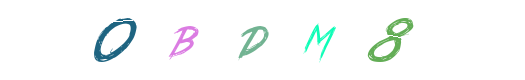0: (74, 0, 154, 80)
8: (283, 0, 363, 80)
B: (166, 0, 246, 80)
D: (223, 0, 303, 80)
M: (280, 0, 360, 80)
